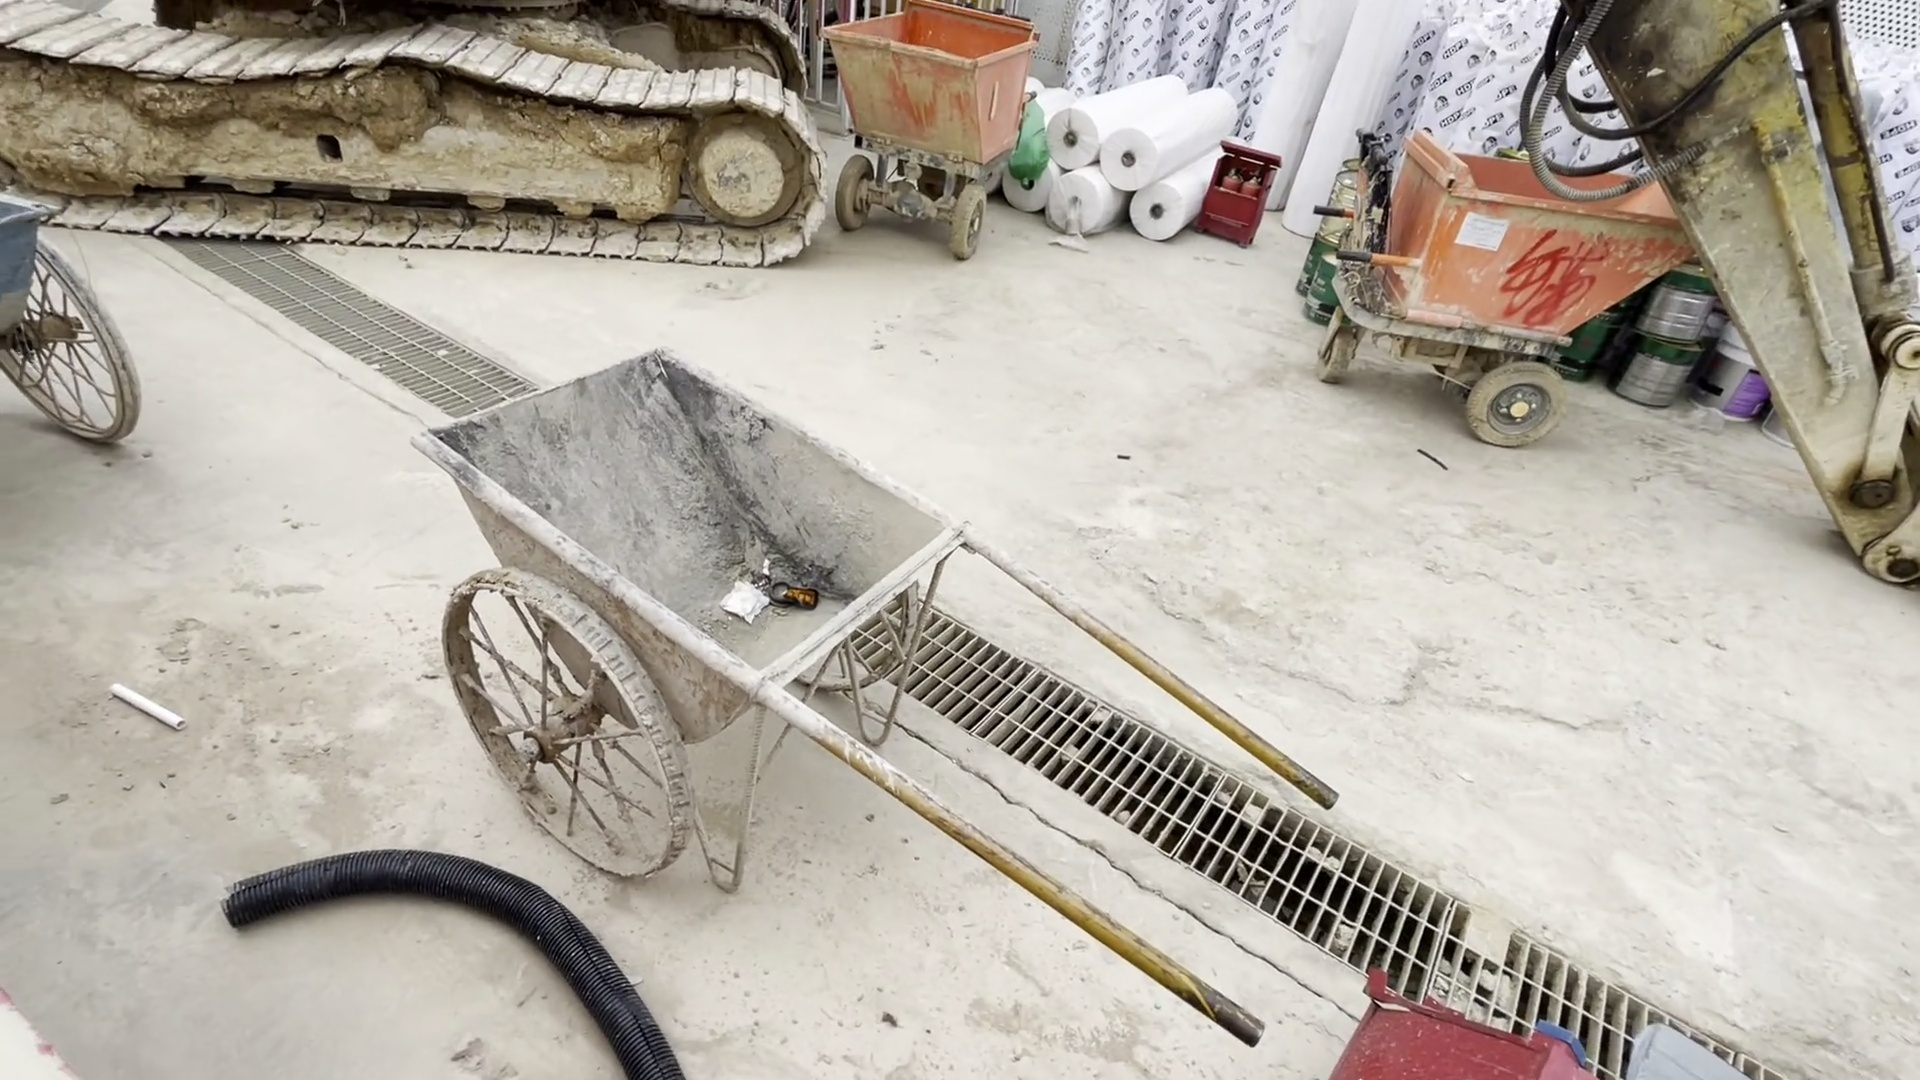handcart: (392, 324, 1406, 1080)
hopper: (1352, 138, 1697, 444), (812, 5, 1040, 280)
